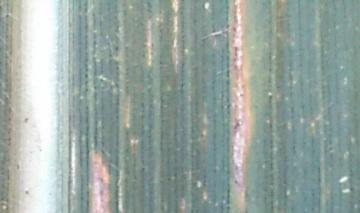tarspot: (21, 188, 33, 195), (23, 116, 32, 123)
